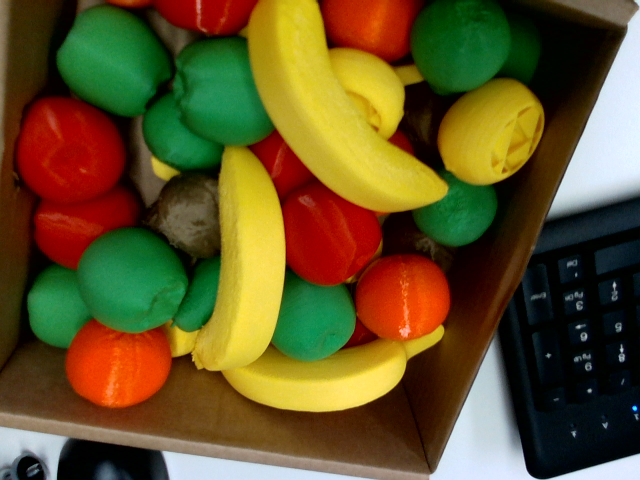banana: (210, 0, 451, 252), (189, 144, 304, 379), (220, 326, 451, 422)
green apple: (60, 207, 203, 352), (41, 0, 188, 133), (159, 26, 276, 162), (405, 157, 509, 261), (128, 90, 231, 193), (265, 269, 364, 371), (410, 0, 510, 93), (11, 257, 100, 358)
lemon: (417, 59, 564, 206), (321, 27, 424, 143)
orange: (61, 317, 175, 413), (355, 254, 450, 340), (320, 0, 424, 62)
red apple: (256, 171, 392, 302), (17, 153, 151, 280), (5, 88, 136, 214)
walnut: (139, 157, 251, 269)
